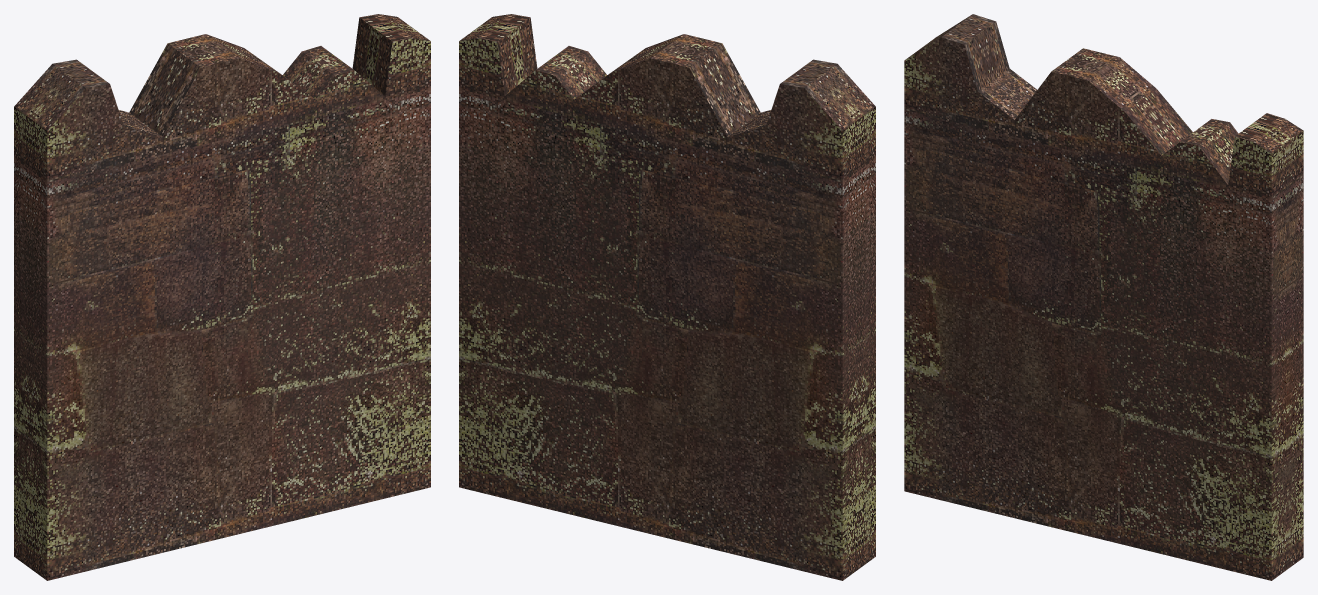
Rendered from Ruims8.fbx.
3 views of the same model, side by side, from view 1: azimuth 30°, elevation 25°; view 2: azimuth 150°, elevation 25°; view 3: azimuth 330°, elevation 25° (orthographic). The views are drawn at different scales.
Visible parts, largest first — view 1: Plane.115; view 2: Plane.115; view 3: Plane.115.
Part boxes in pixels (left/top/right/bottom): Plane.115: left=14, top=14, right=430, bottom=580; Plane.115: left=459, top=14, right=875, bottom=580; Plane.115: left=904, top=14, right=1303, bottom=580.
Bounding box in the file's own units: 400 × 482 × 60.
